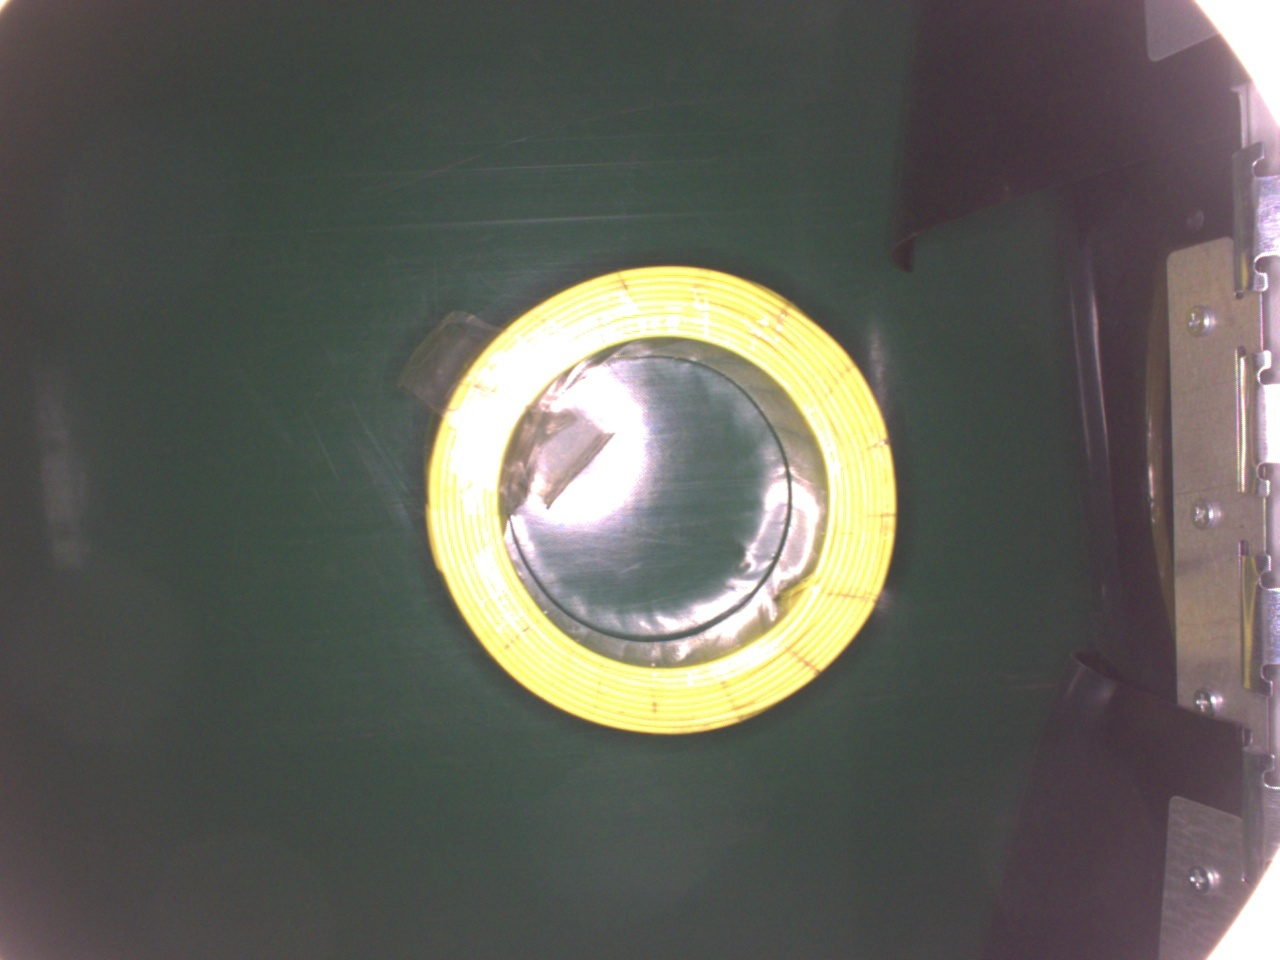yellow: (424, 263, 898, 735)
